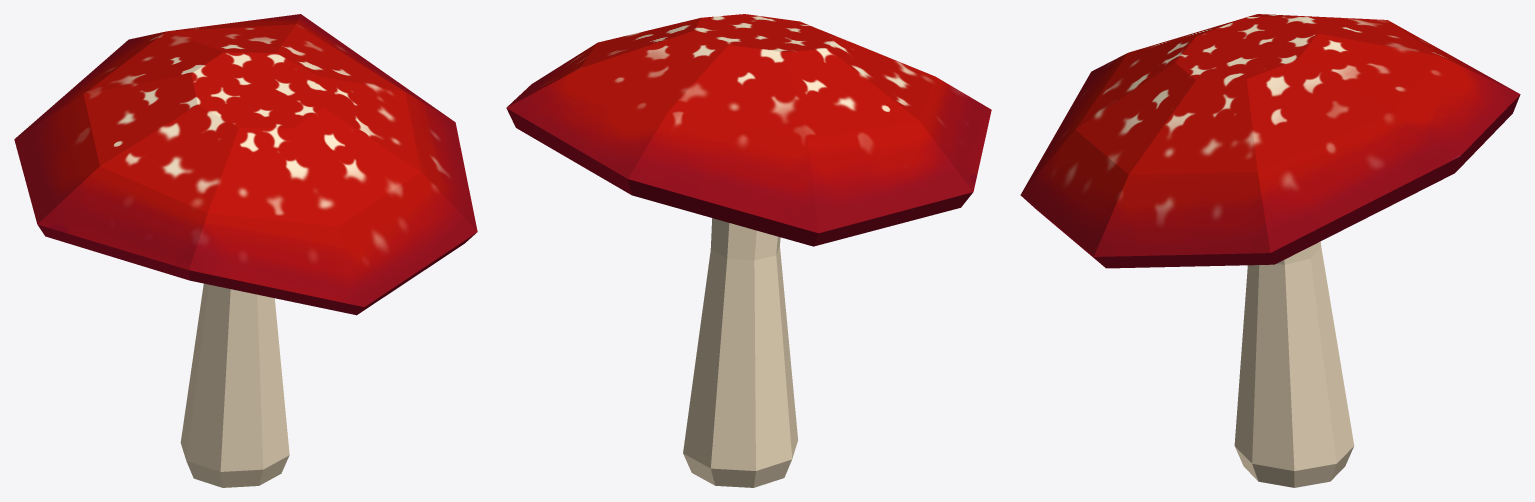
Rendered from RedShroom.fbx.
The picture shows the model from 3 angles, left to right: view 1: azimuth 30°, elevation 25°; view 2: azimuth 150°, elevation 25°; view 3: azimuth 270°, elevation 25°; orthographic projection. The views are drawn at different scales.
Visible parts, largest first — view 1: Circle.003; view 2: Circle.003; view 3: Circle.003.
Boxes of the visible parts, bbox=[...] form: Circle.003: bbox=[14, 14, 477, 487]; Circle.003: bbox=[506, 14, 991, 487]; Circle.003: bbox=[1020, 14, 1520, 487].
Bounding box in the file's own units: 32.14 × 29.95 × 31.37.
